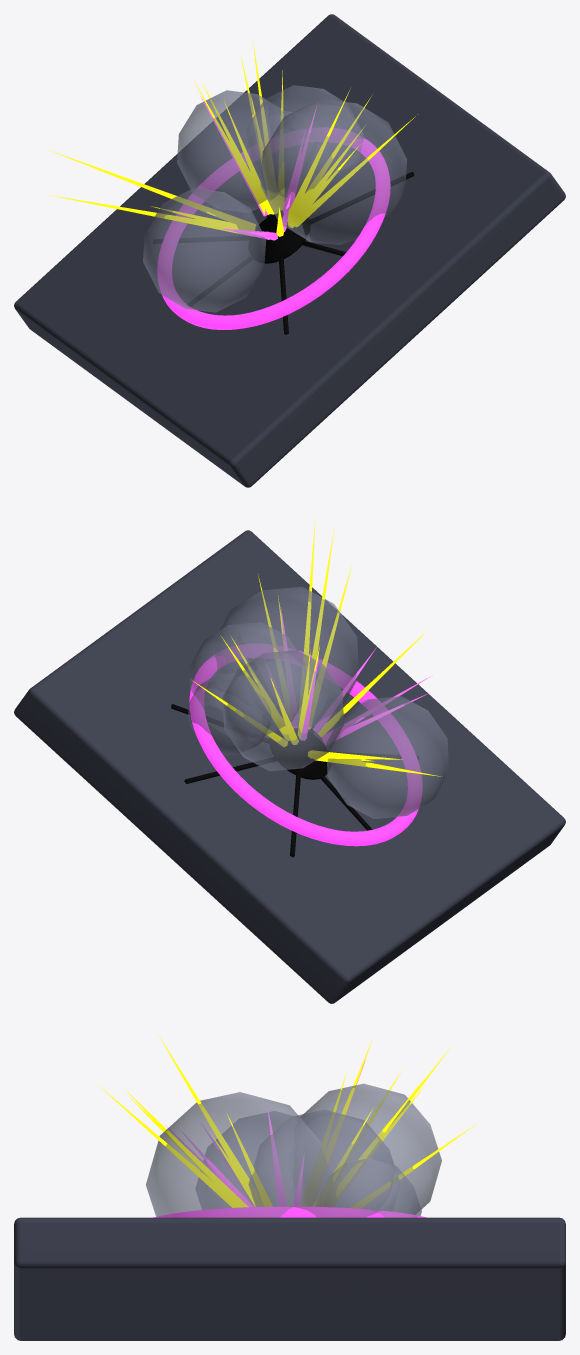
Rendered from GravitySniper_Impact.fbx.
The picture shows the model from 3 angles, top to bottom: view 1: azimuth 30°, elevation 25°; view 2: azimuth 150°, elevation 25°; view 3: azimuth 270°, elevation 25°; orthographic projection. The views are drawn at different scales.
Visible parts, largest first — view 1: GravitySniper_Impact_Pro_Plastic_Grey, GravitySniper_Impact_Pro_Dust4, GravitySniper_Impact_Pro_Dust2, GravitySniper_Impact_Pro_Dust1, GravitySniper_Impact_Pro_Dust0, GravitySniper_Impact_Pro_Glow_pink_8, GravitySniper_Impact_Pro_Glow_yellow_16, GravitySniper_Impact_Pro_Crack, GravitySniper_Impact_Pro_Hole, GravitySniper_Impact_Pro_Glow_pink_16; view 2: GravitySniper_Impact_Pro_Plastic_Grey, GravitySniper_Impact_Pro_Dust1, GravitySniper_Impact_Pro_Dust2, GravitySniper_Impact_Pro_Dust4, GravitySniper_Impact_Pro_Dust0, GravitySniper_Impact_Pro_Glow_pink_8, GravitySniper_Impact_Pro_Glow_yellow_16, GravitySniper_Impact_Pro_Dust3, GravitySniper_Impact_Pro_Glow_pink_16, GravitySniper_Impact_Pro_Hole, GravitySniper_Impact_Pro_Crack; view 3: GravitySniper_Impact_Pro_Plastic_Grey, GravitySniper_Impact_Pro_Dust4, GravitySniper_Impact_Pro_Dust0, GravitySniper_Impact_Pro_Dust1, GravitySniper_Impact_Pro_Glow_yellow_16, GravitySniper_Impact_Pro_Dust3, GravitySniper_Impact_Pro_Dust2, GravitySniper_Impact_Pro_Glow_pink_8, GravitySniper_Impact_Pro_Glow_pink_16.
Part boxes in pixels (x1,y1,x2,y2): GravitySniper_Impact_Pro_Plastic_Grey: (14,14,565,487); GravitySniper_Impact_Pro_Dust4: (260,99,407,244); GravitySniper_Impact_Pro_Dust2: (143,188,266,312); GravitySniper_Impact_Pro_Dust1: (177,90,297,212); GravitySniper_Impact_Pro_Dust0: (246,85,362,203); GravitySniper_Impact_Pro_Glow_pink_8: (157,128,390,329); GravitySniper_Impact_Pro_Glow_yellow_16: (46,40,417,236); GravitySniper_Impact_Pro_Crack: (153,171,413,334); GravitySniper_Impact_Pro_Hole: (248,210,310,263); GravitySniper_Impact_Pro_Glow_pink_16: (200,96,317,240); GravitySniper_Impact_Pro_Plastic_Grey: (14,530,565,1003); GravitySniper_Impact_Pro_Dust1: (223,650,343,771); GravitySniper_Impact_Pro_Dust2: (326,696,448,818); GravitySniper_Impact_Pro_Dust4: (213,586,358,726); GravitySniper_Impact_Pro_Dust0: (189,622,303,736); GravitySniper_Impact_Pro_Glow_pink_8: (189,644,422,846); GravitySniper_Impact_Pro_Glow_yellow_16: (192,517,442,776); GravitySniper_Impact_Pro_Dust3: (188,673,270,755); GravitySniper_Impact_Pro_Glow_pink_16: (280,606,432,744); GravitySniper_Impact_Pro_Hole: (270,728,331,779); GravitySniper_Impact_Pro_Crack: (171,659,419,857); GravitySniper_Impact_Pro_Plastic_Grey: (14,1217,565,1340); GravitySniper_Impact_Pro_Dust4: (146,1092,332,1217); GravitySniper_Impact_Pro_Dust0: (248,1109,400,1217); GravitySniper_Impact_Pro_Dust1: (300,1083,441,1214); GravitySniper_Impact_Pro_Glow_yellow_16: (97,1035,475,1207); GravitySniper_Impact_Pro_Dust3: (316,1159,421,1217); GravitySniper_Impact_Pro_Dust2: (196,1111,290,1209); GravitySniper_Impact_Pro_Glow_pink_8: (153,1206,426,1217); GravitySniper_Impact_Pro_Glow_pink_16: (165,1059,365,1207).
Size of the model in its own units: 0.3087 by 0.259 by 0.32.
